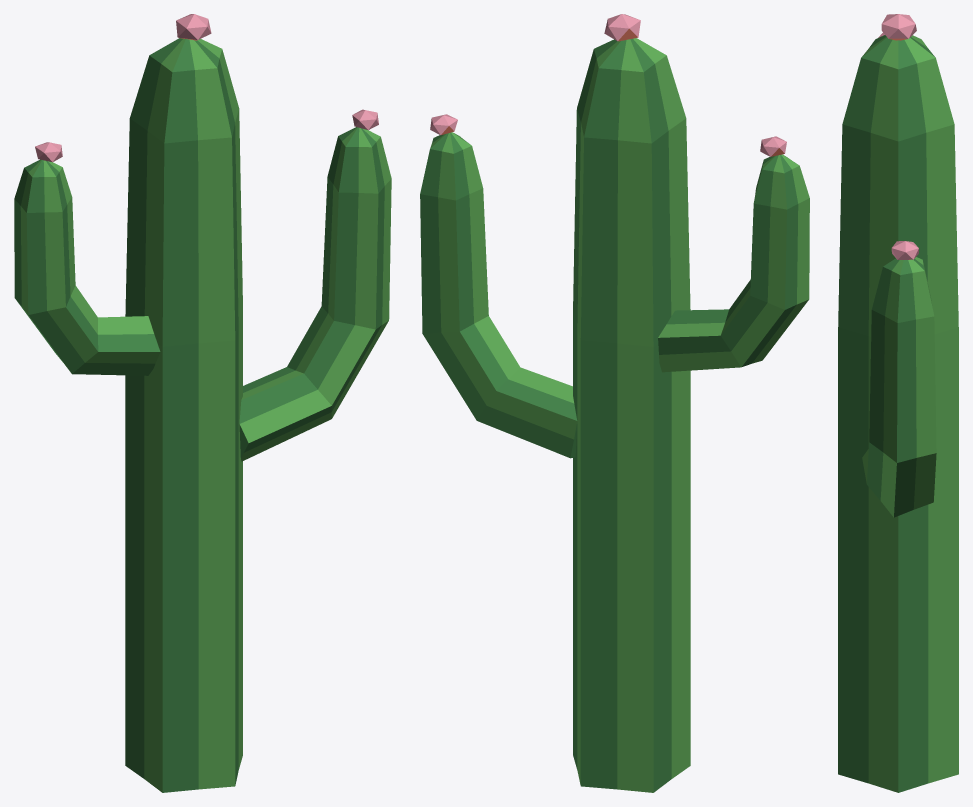
Rendered from cactus_a.glb.
3 views of the same model, side by side, from view 1: azimuth 30°, elevation 25°; view 2: azimuth 150°, elevation 25°; view 3: azimuth 270°, elevation 25° (orthographic).
Parts seen in each view (by area): view 1: cactus_a; view 2: cactus_a; view 3: cactus_a.
Boxes of the visible parts, x1=… form: cactus_a: x1=14, y1=14, x2=391, y2=792; cactus_a: x1=420, y1=14, x2=809, y2=792; cactus_a: x1=838, y1=14, x2=958, y2=792.
Size of the model in its own units: 1.85 by 3.55 by 0.5136.
